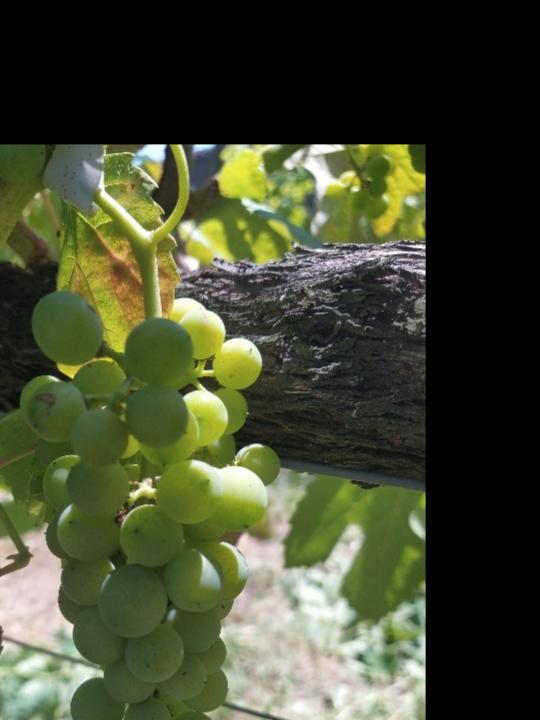grape: (19, 288, 280, 720)
